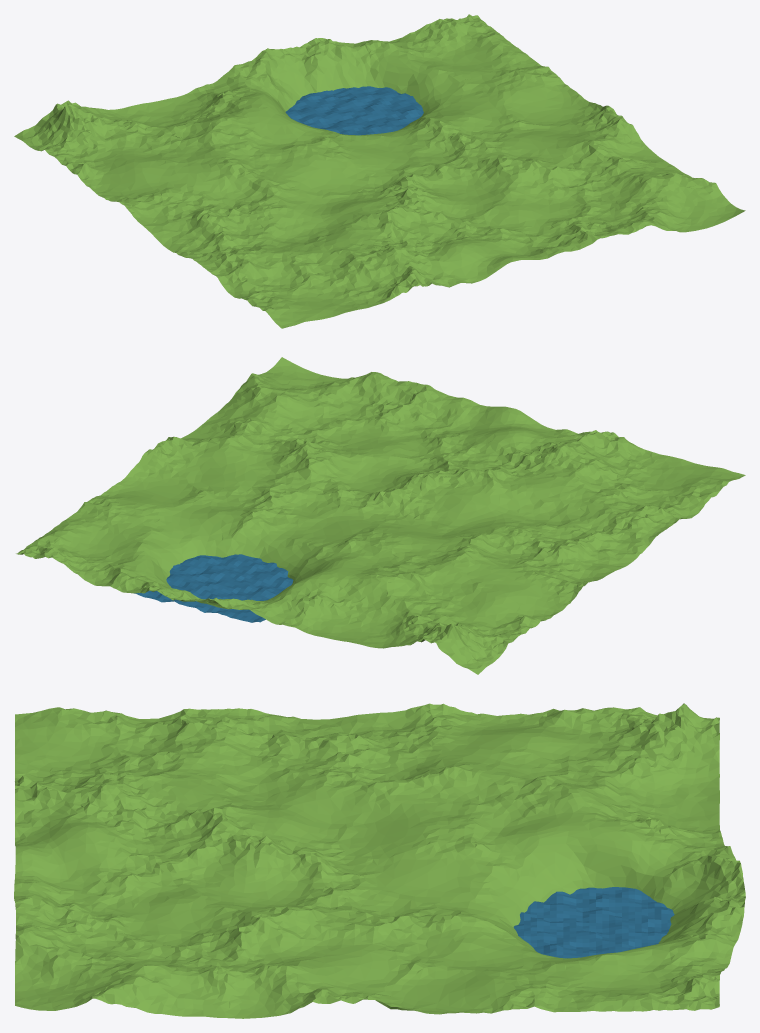
Rendered from Terrain(Unfinish).fbx.
3 views of the same model, one above another, from view 1: azimuth 30°, elevation 25°; view 2: azimuth 150°, elevation 25°; view 3: azimuth 270°, elevation 25° (orthographic). The views are drawn at different scales.
Parts seen in each view (by area): view 1: Terrain, water; view 2: Terrain, water; view 3: Terrain, water.
Boxes of the visible parts, x1,y1,x2,y2 form: Terrain: (14, 14, 745, 328); water: (285, 86, 423, 135); Terrain: (16, 357, 745, 674); water: (134, 554, 293, 622); Terrain: (14, 703, 745, 1018); water: (513, 887, 674, 958).
Size of the model in its own units: 810 by 118 by 841.
